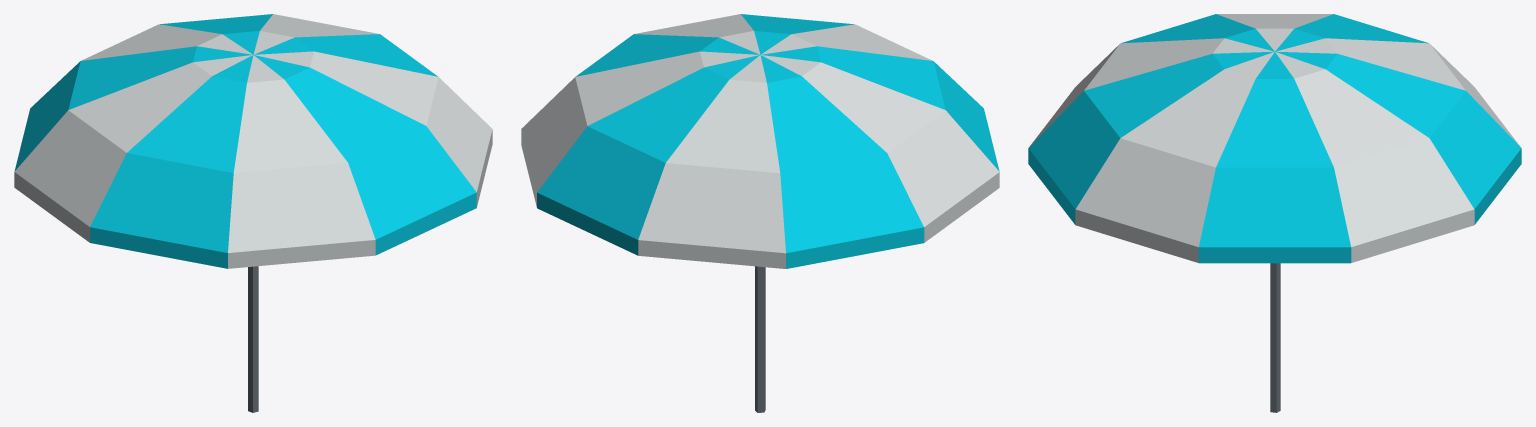
Rendered from parasolblue.fbx.
3 renders of one model, left to right at view 1: azimuth 30°, elevation 25°; view 2: azimuth 150°, elevation 25°; view 3: azimuth 270°, elevation 25°, orthographic.
Parts seen in each view (by area): view 1: 円, 円柱; view 2: 円, 円柱; view 3: 円, 円柱.
Boxes of the visible parts, x1,y1,x2,y2 form: 円: (14,14,492,268); 円柱: (248,266,258,412); 円: (521,14,999,268); 円柱: (755,266,765,412); 円: (1028,14,1521,263); 円柱: (1270,263,1280,412).
Bounding box in the file's own units: 163 × 137 × 171.
